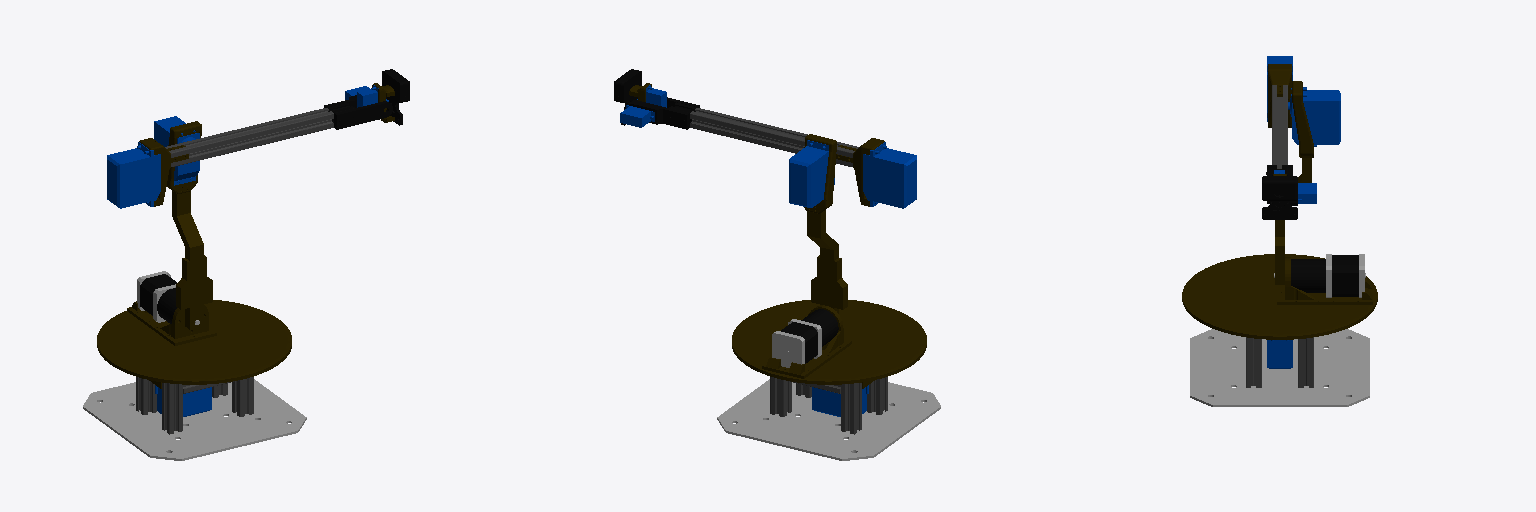
File: Manip.obj
3 renders of one model, left to right at view 1: azimuth 30°, elevation 25°; view 2: azimuth 150°, elevation 25°; view 3: azimuth 270°, elevation 25°, orthographic.
Visible parts, largest first — view 1: Edge2Rotate_Cylinder.008, Base_Cylinder.021, Edge1Turn_Plane.009, Edge2Turn_Cube.079, Edge1Rotate_Cube.226, CameraTurn_Cube.070, CameraRotate_Cube.174; view 2: Edge2Rotate_Cylinder.008, Base_Cylinder.021, Edge1Turn_Plane.009, Edge2Turn_Cube.079, Edge1Rotate_Cube.226, CameraTurn_Cube.070, CameraRotate_Cube.174; view 3: Edge2Rotate_Cylinder.008, Base_Cylinder.021, Edge2Turn_Cube.079, Edge1Turn_Plane.009, CameraTurn_Cube.070, Edge1Rotate_Cube.226.
Boxes of the visible parts, x1,y1,x2,y2 form: Edge2Rotate_Cylinder.008: [97, 271, 291, 384]; Base_Cylinder.021: [83, 377, 306, 460]; Edge1Turn_Plane.009: [107, 108, 333, 208]; Edge2Turn_Cube.079: [154, 116, 212, 329]; Edge1Rotate_Cube.226: [324, 86, 392, 129]; CameraTurn_Cube.070: [382, 69, 409, 125]; CameraRotate_Cube.174: [357, 83, 394, 122]; Edge2Rotate_Cylinder.008: [732, 300, 926, 384]; Base_Cylinder.021: [717, 377, 940, 460]; Edge1Turn_Plane.009: [690, 108, 916, 208]; Edge2Turn_Cube.079: [789, 134, 847, 313]; Edge1Rotate_Cube.226: [620, 97, 699, 129]; CameraTurn_Cube.070: [614, 69, 641, 125]; CameraRotate_Cube.174: [629, 83, 666, 107]; Edge2Rotate_Cylinder.008: [1182, 254, 1377, 339]; Base_Cylinder.021: [1190, 329, 1369, 406]; Edge2Turn_Cube.079: [1275, 81, 1340, 284]; Edge1Turn_Plane.009: [1267, 56, 1292, 168]; CameraTurn_Cube.070: [1262, 176, 1297, 219]; Edge1Rotate_Cube.226: [1266, 165, 1316, 205].
Size of the model in its own units: 414 by 396 by 240.